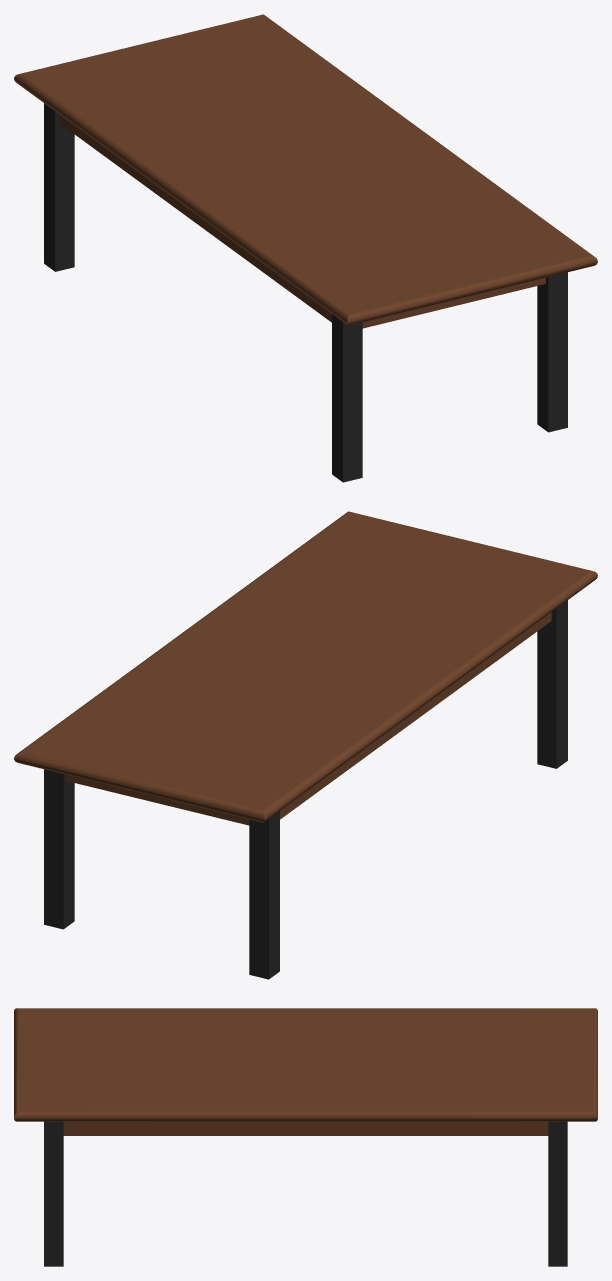
Rendered from GrandeTable_40.fbx.
The picture shows the model from 3 angles, top to bottom: view 1: azimuth 30°, elevation 25°; view 2: azimuth 150°, elevation 25°; view 3: azimuth 270°, elevation 25°; orthographic projection. The views are drawn at different scales.
Visible parts, largest first — view 1: pCube80, pCube82, pCube81, pCube83; view 2: pCube80, pCube83, pCube84, pCube82; view 3: pCube80, pCube84, pCube81.
Boxes of the visible parts, x1=… form: pCube80: x1=14, y1=14, x2=597, y2=328; pCube82: x1=332, y1=314, x2=362, y2=482; pCube81: x1=537, y1=272, x2=567, y2=432; pCube83: x1=44, y1=103, x2=74, y2=271; pCube80: x1=14, y1=511, x2=597, y2=825; pCube83: x1=249, y1=811, x2=279, y2=979; pCube84: x1=44, y1=769, x2=74, y2=929; pCube82: x1=537, y1=600, x2=567, y2=768; pCube80: x1=14, y1=1008, x2=597, y2=1135; pCube84: x1=548, y1=1121, x2=567, y2=1266; pCube81: x1=44, y1=1121, x2=63, y2=1266.
Bounding box in the file's own units: 57.3 × 39.63 × 132.
